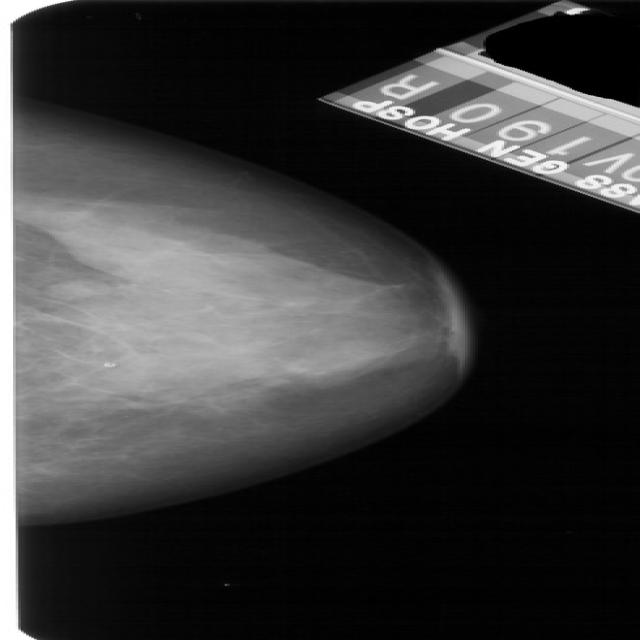tumour: (42, 278, 107, 299)
